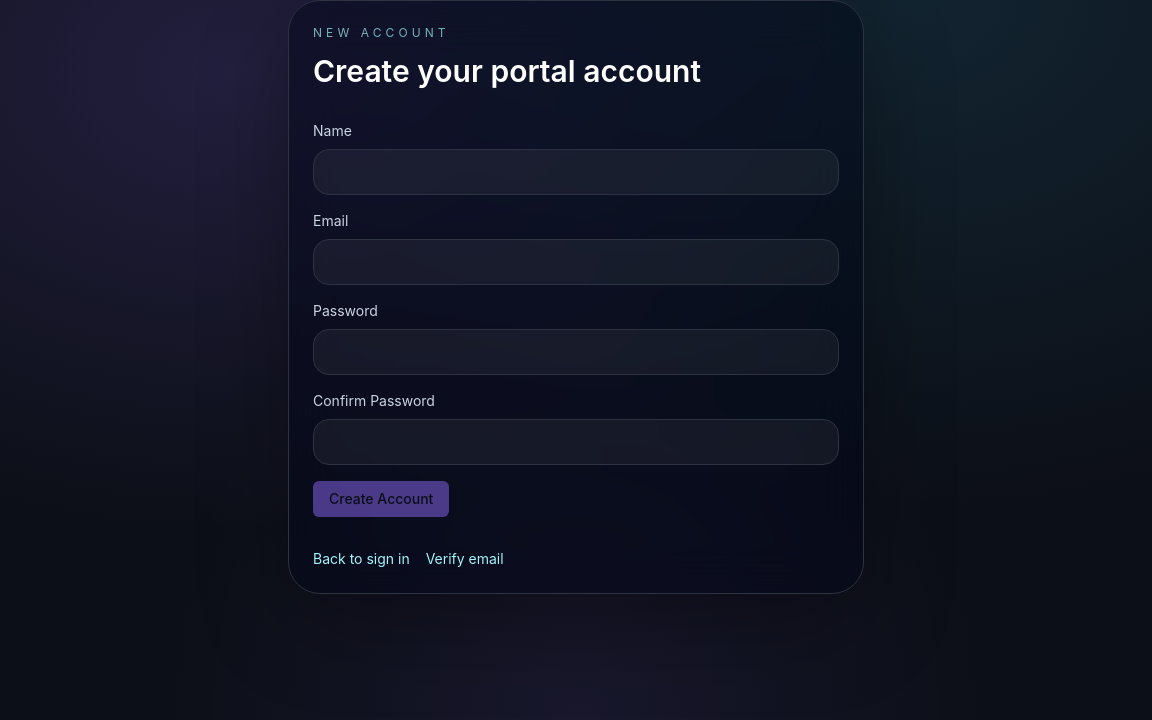
Test case: RegisterRoute › stops submission when the passwords do not match
Type "Alice" into the field labelled "Name" at (576,172), box top-left (313, 149), bottom-right (839, 195)
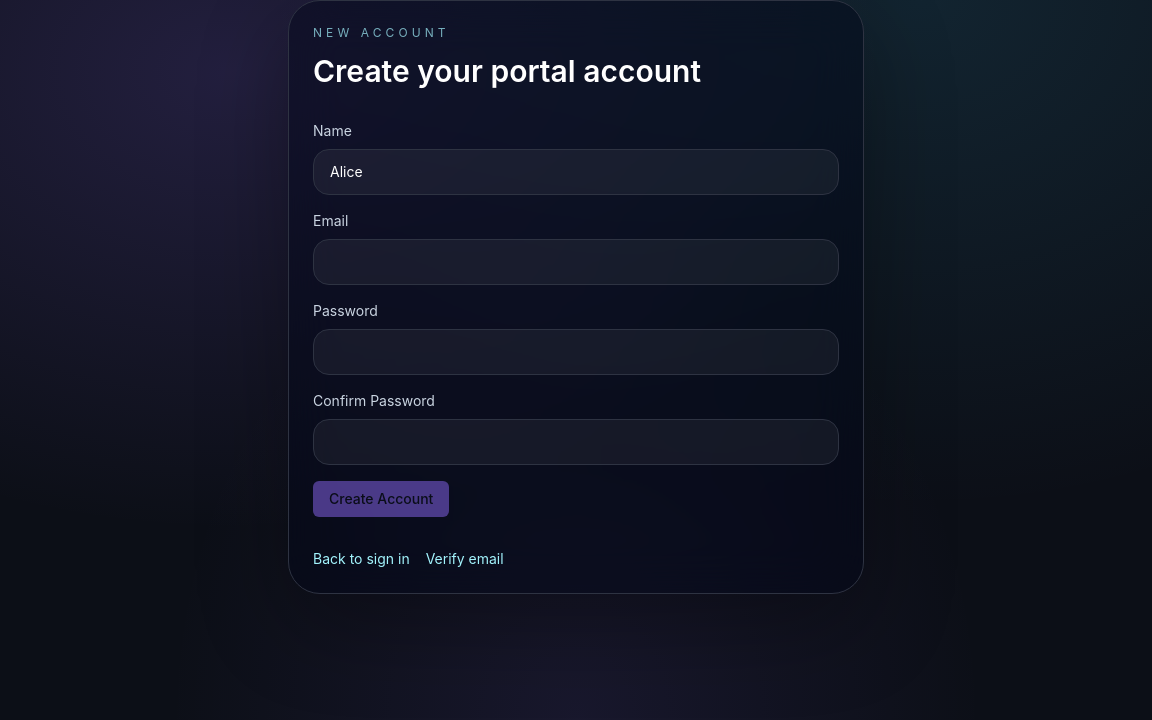
Type "alice@example.com" into the field labelled "Email" at (576,262), box top-left (313, 239), bottom-right (839, 285)
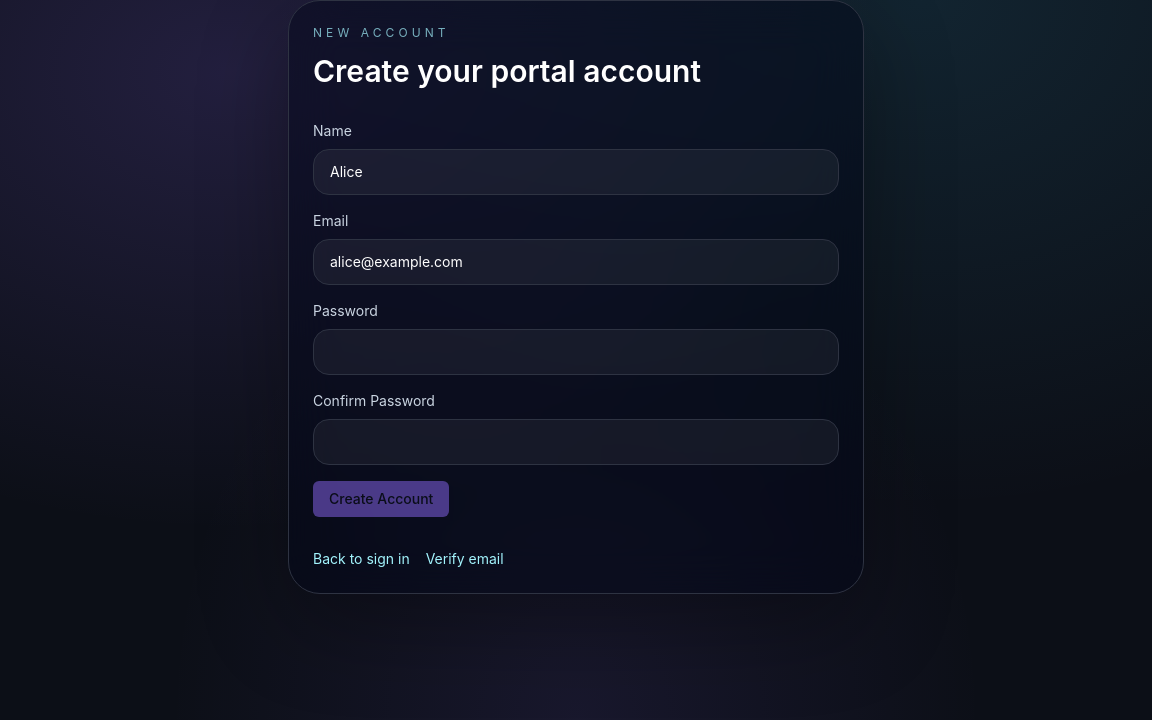
Type "password123" into the password field labelled "Password" at (576,352), box top-left (313, 329), bottom-right (839, 375)
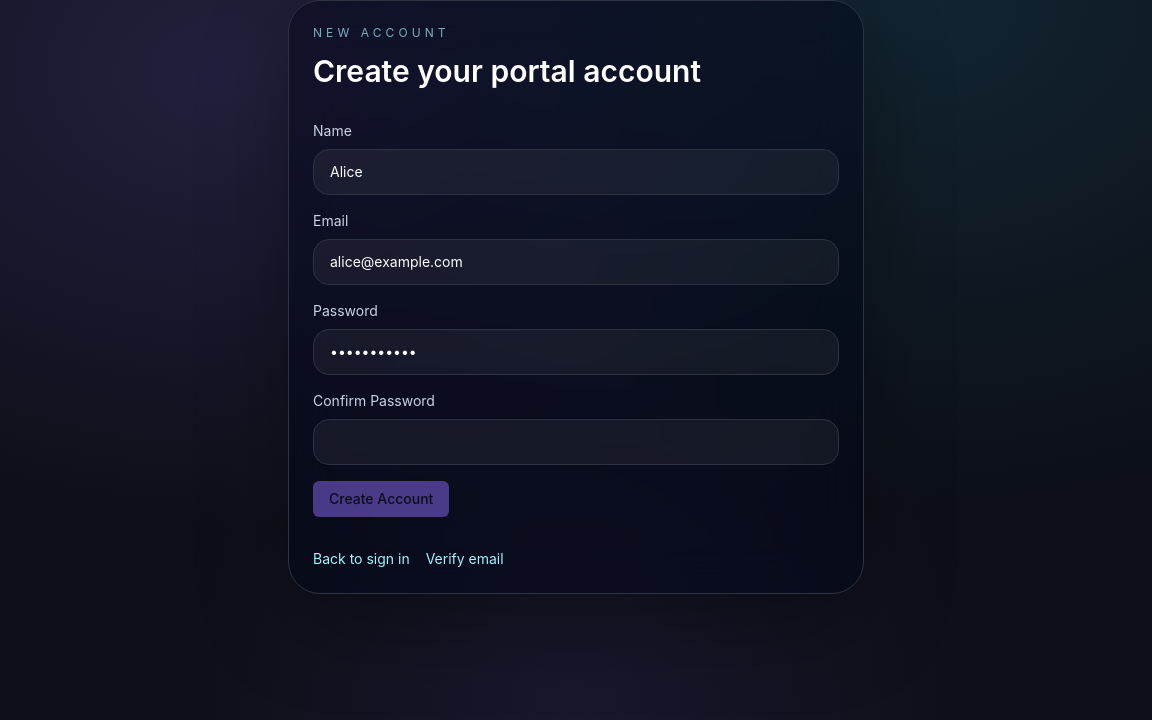
Type "different" into the password field labelled "Confirm Password" at (576,442), box top-left (313, 419), bottom-right (839, 465)
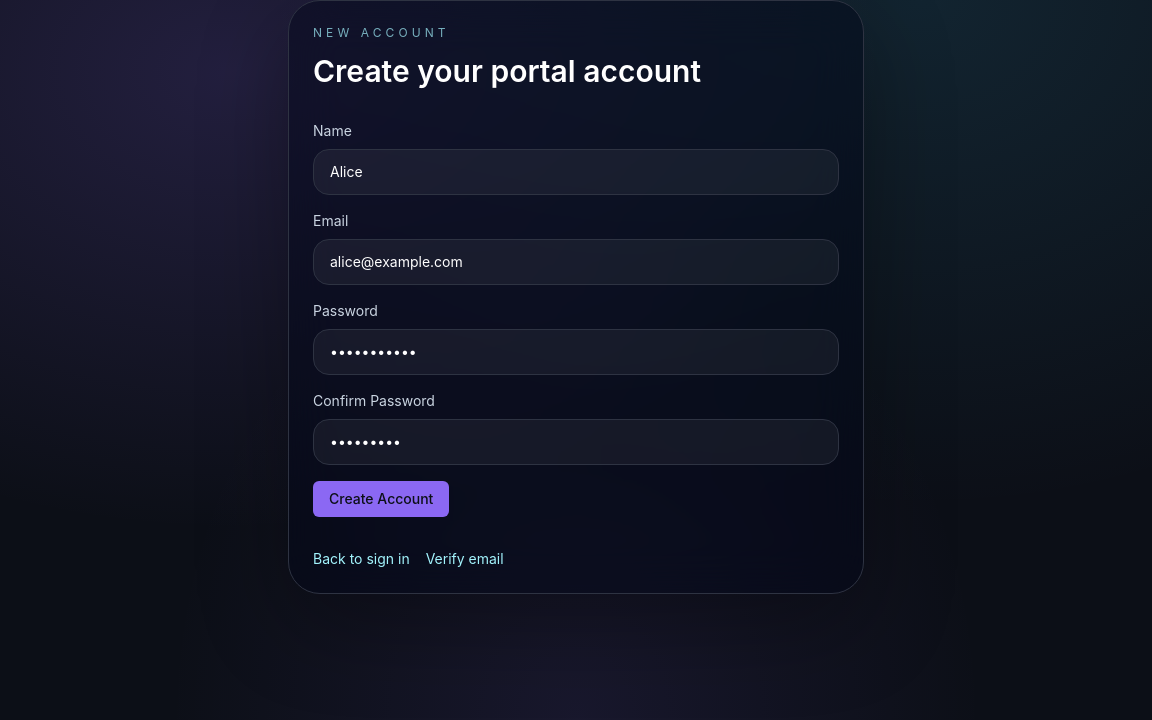
Click the button "Create Account" at (381,499), box top-left (313, 481), bottom-right (449, 517)
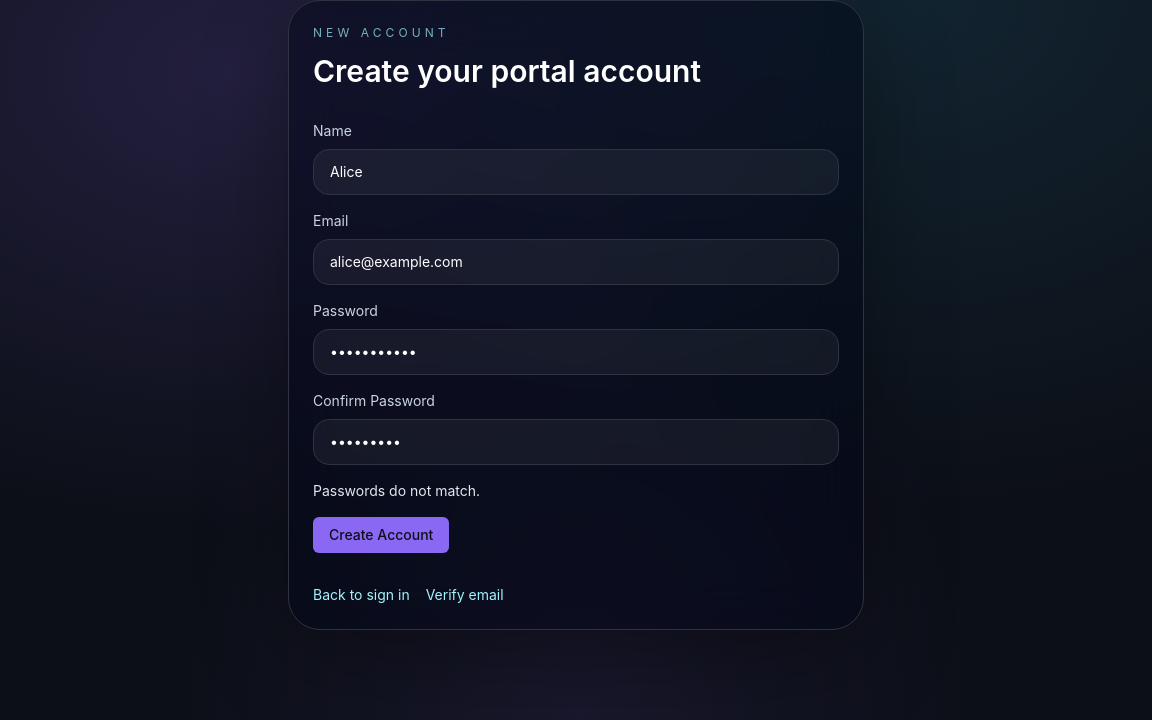
Check: the text "Passwords do not match." is shown, box top-left (313, 482), bottom-right (480, 499)
